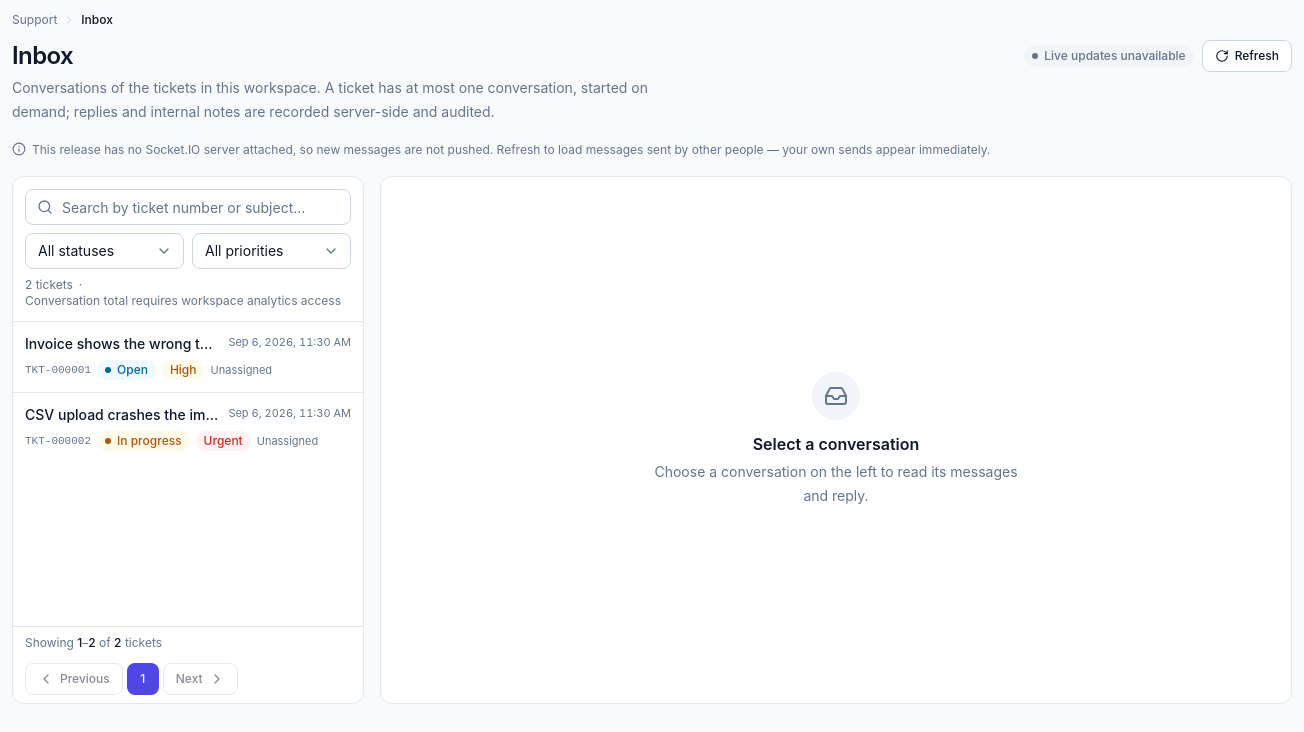
Test: InboxPage › does not offer a composer to a viewer
This screenshot has width=1304, height=732.
Click the button "Invoice shows the wrong total": (188, 357) [13,322,363,392]
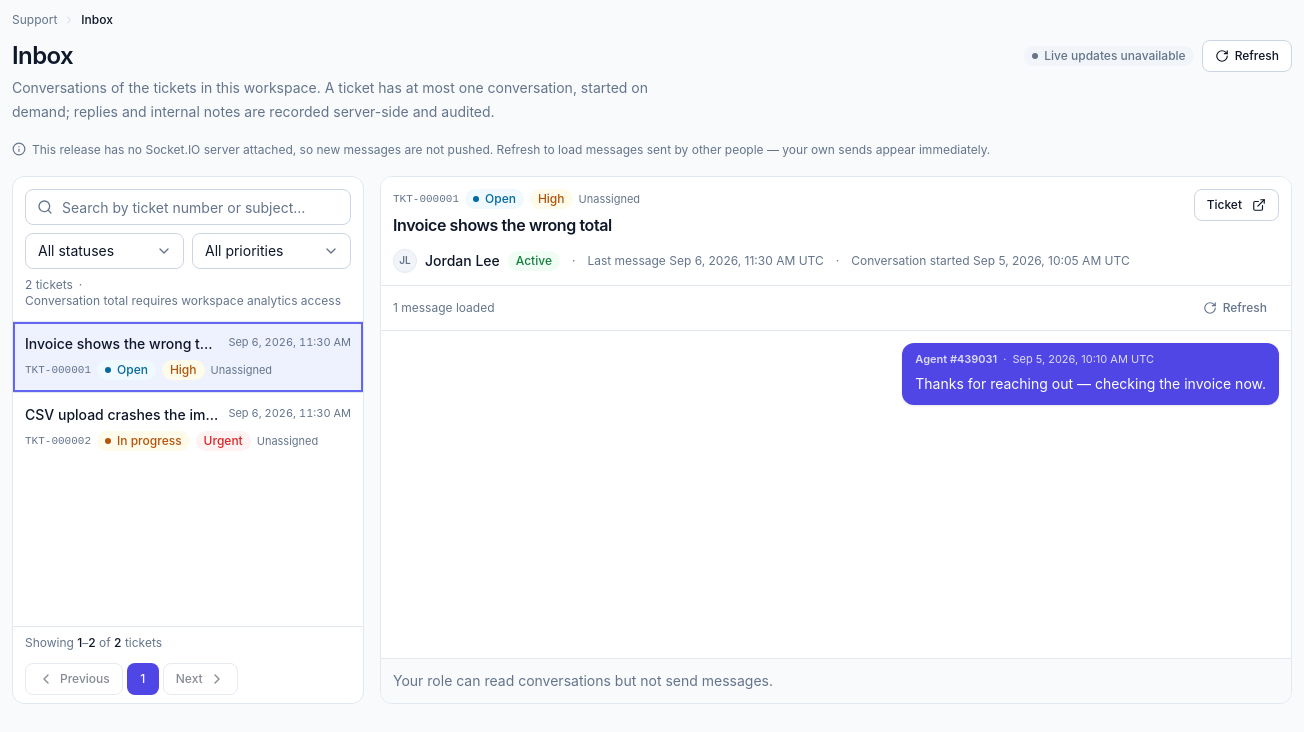
Result: the text "Thanks for reaching out — checking the invoice now." is shown at [915,372,1266,396]
Result: the text "Your role can read conversations but not send messages." is shown at [393,672,773,689]
